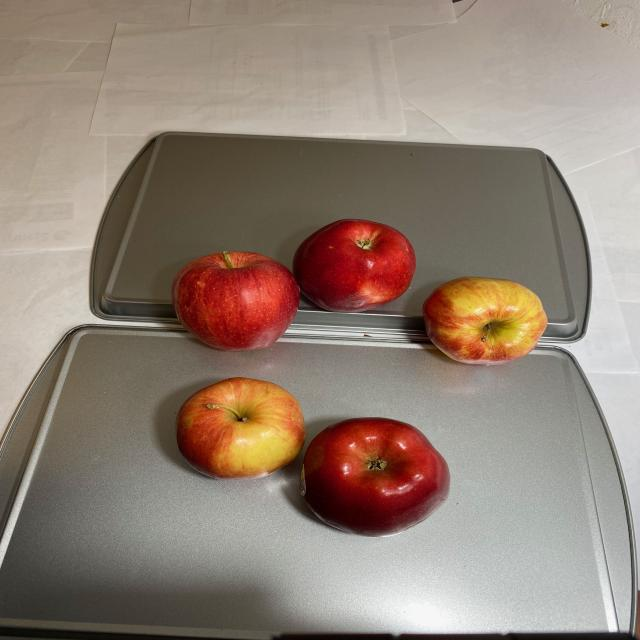apple: (167, 217, 548, 366), (170, 380, 457, 536)
